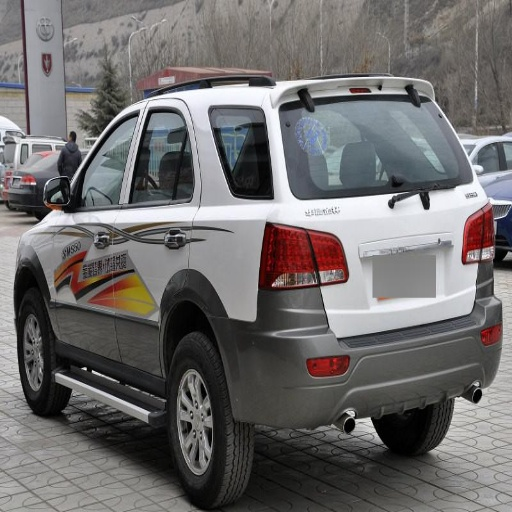back_bumper: (221, 278, 503, 437)
back_glass: (210, 98, 470, 198)
back_left_door: (110, 99, 201, 387)
trunk: (307, 190, 485, 335)
